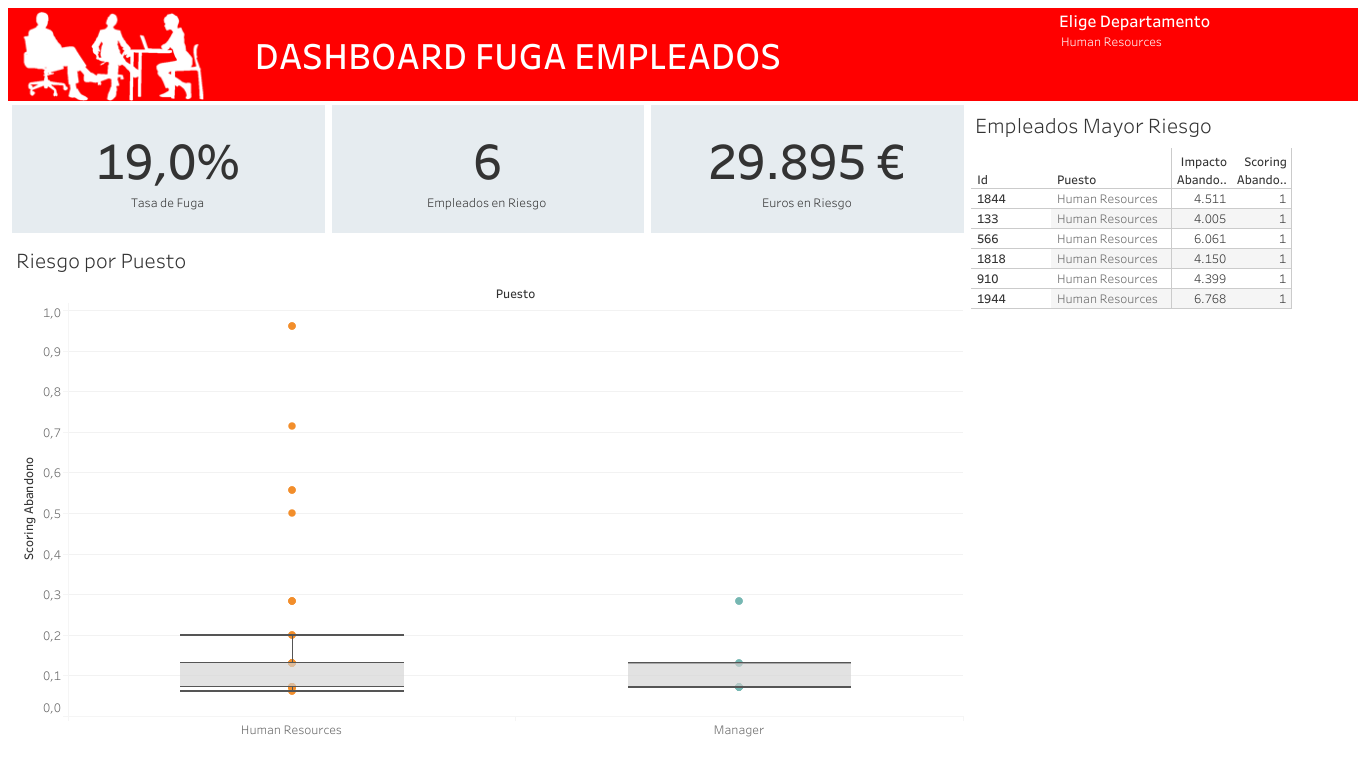

The dashboard page shown, as its layout file describes it:
{"tool":"tableau","page":{"name":"Dashboard 1","canvas":[1366,768],"ordinal":0},"visuals":[{"type":"image","param":"Image/logo_dashboard.png","box":[8,8,244,93]},{"type":"text","box":[252,8,807,93]},{"type":"filter","title":"KPI Tasa de Fuga","param":"[federated.1iqc1qq0jbijht13jcgsu1271scn].[none:departamento:nk]","box":[1059,8,299,93]},{"type":"worksheet","title":"KPI Tasa de Fuga","mark":"Automatic","box":[8,101,319.7,135]},{"type":"worksheet","title":"KPI Empleados en Riesgo","mark":"Automatic","box":[327.7,101,319.7,135]},{"type":"worksheet","title":"KPI Euros en Riesgo","mark":"Automatic","box":[647.3,101,319.7,135]},{"type":"worksheet","title":"Empleados Mayor Riesgo","mark":"Automatic","rows":["id","puesto"],"box":[967,101,391,659]},{"type":"worksheet","title":"Riesgo por Puesto","mark":"Circle","rows":["scoring_abandono"],"cols":["puesto"],"box":[8,236,959,524]}]}

Visuals, with their boxes in screenshot pixels (x1, y1, x2, y2), scaled from the page's 1366x768 canvas onto the 1365x767 screenshot:
image: {"left": 8, "top": 8, "right": 252, "bottom": 101}
text: {"left": 252, "top": 8, "right": 1058, "bottom": 101}
"KPI Tasa de Fuga" filter: {"left": 1058, "top": 8, "right": 1357, "bottom": 101}
"KPI Tasa de Fuga" worksheet: {"left": 8, "top": 101, "right": 327, "bottom": 236}
"KPI Empleados en Riesgo" worksheet: {"left": 327, "top": 101, "right": 647, "bottom": 236}
"KPI Euros en Riesgo" worksheet: {"left": 647, "top": 101, "right": 966, "bottom": 236}
"Empleados Mayor Riesgo" worksheet: {"left": 966, "top": 101, "right": 1357, "bottom": 759}
"Riesgo por Puesto" worksheet (Circle marks): {"left": 8, "top": 236, "right": 966, "bottom": 759}
